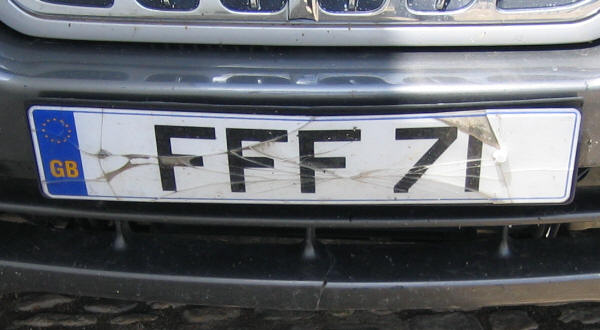license_plate: (23, 103, 582, 205)
